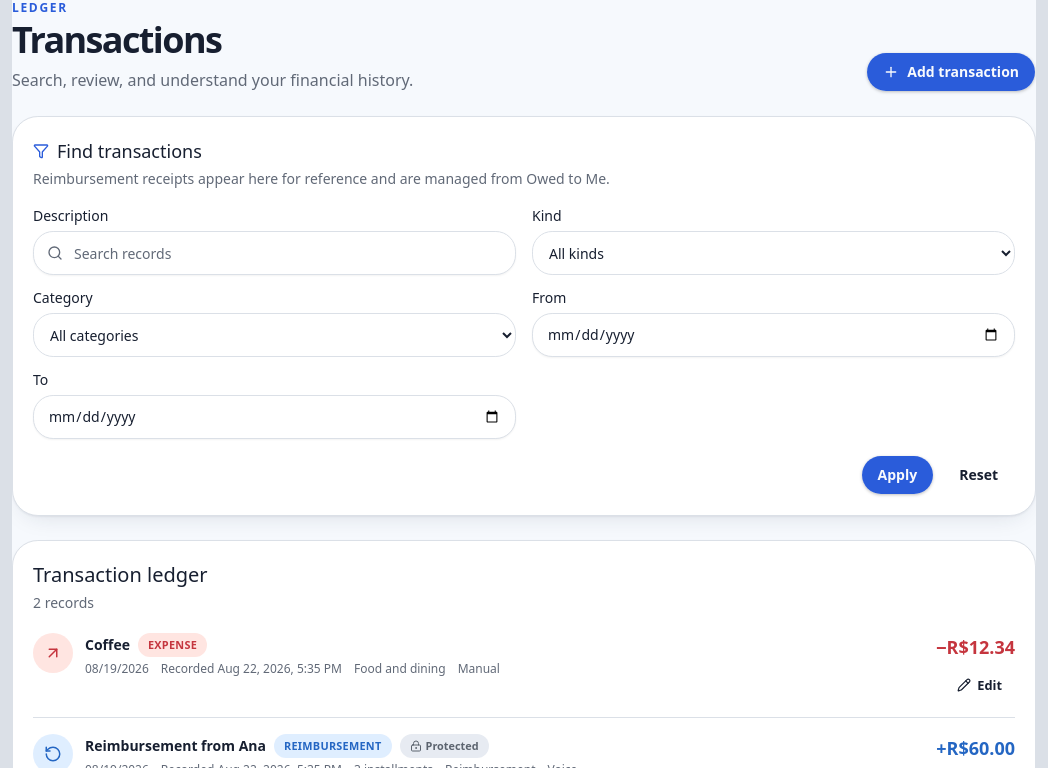
TransactionsPage category catalog integration › opens transaction detail from a ledger row
Click the link named "View transaction Coffee" at (524,667), box [33, 633, 1015, 701]
(page scrolled)
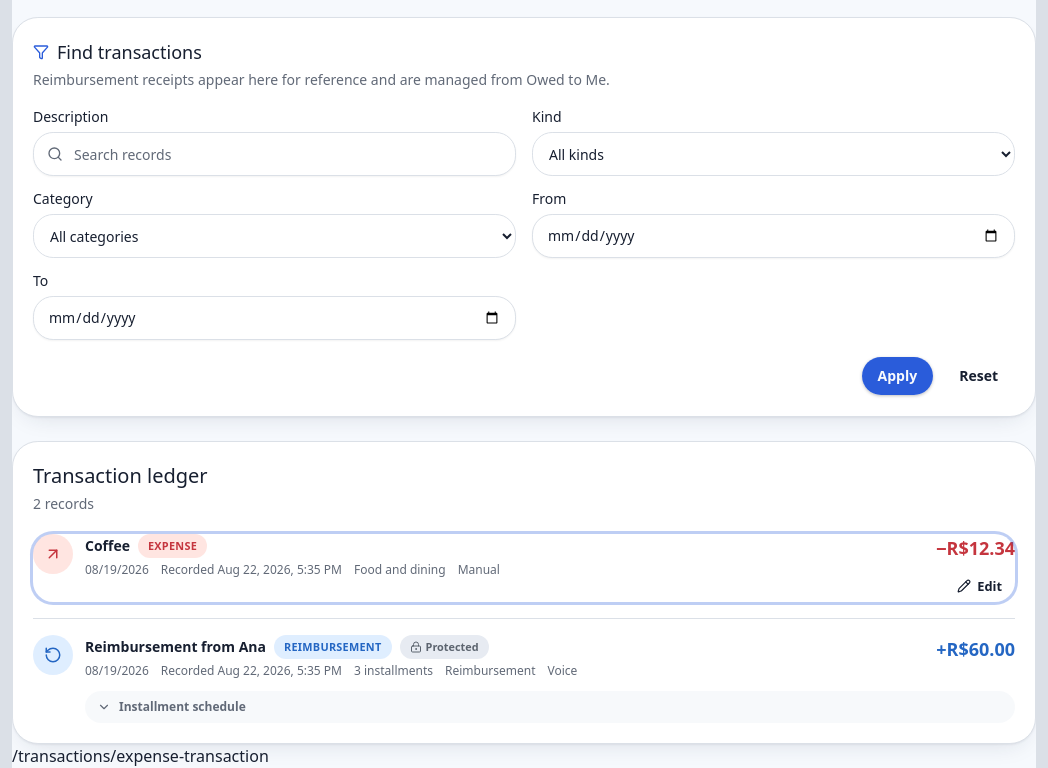
Now the text with test id "location" reads "/transactions/expense-transaction", box [12, 744, 269, 766]
